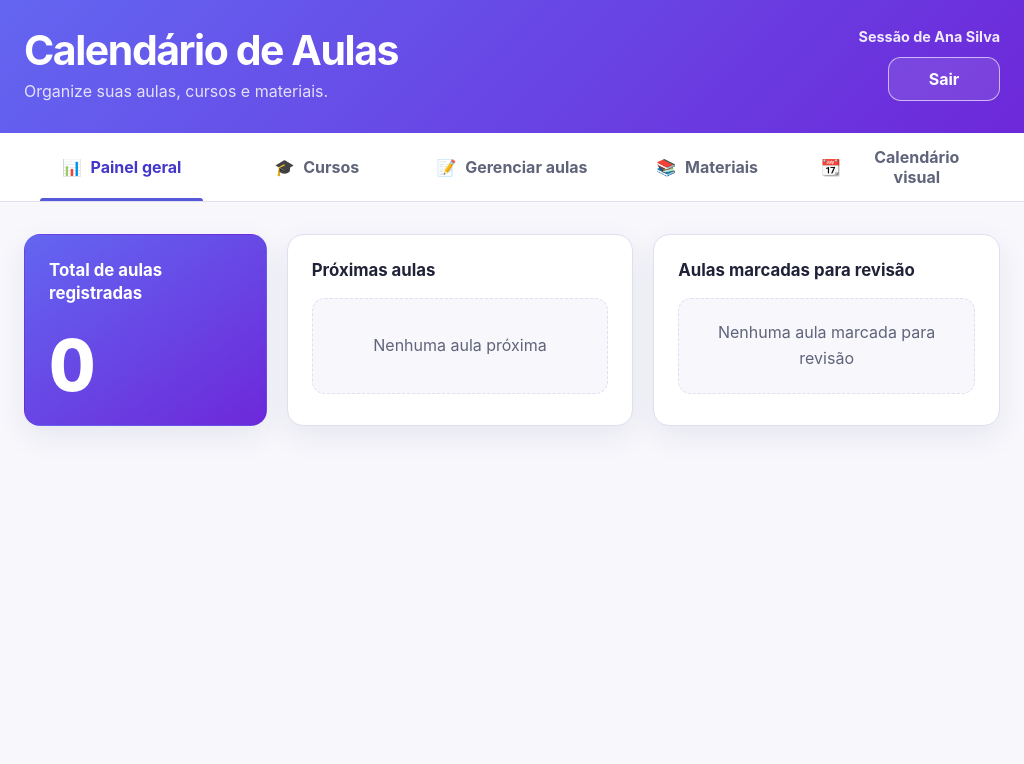
it: navegação da área autenticada › consulta novamente as aulas quando a seção é aberta
What coordinates should you click on to do the following:
click the button "📝 Gerenciar aulas"
I would click on:
 (512, 167)
Its box is left=414, top=133, right=610, bottom=201.
(page scrolled)
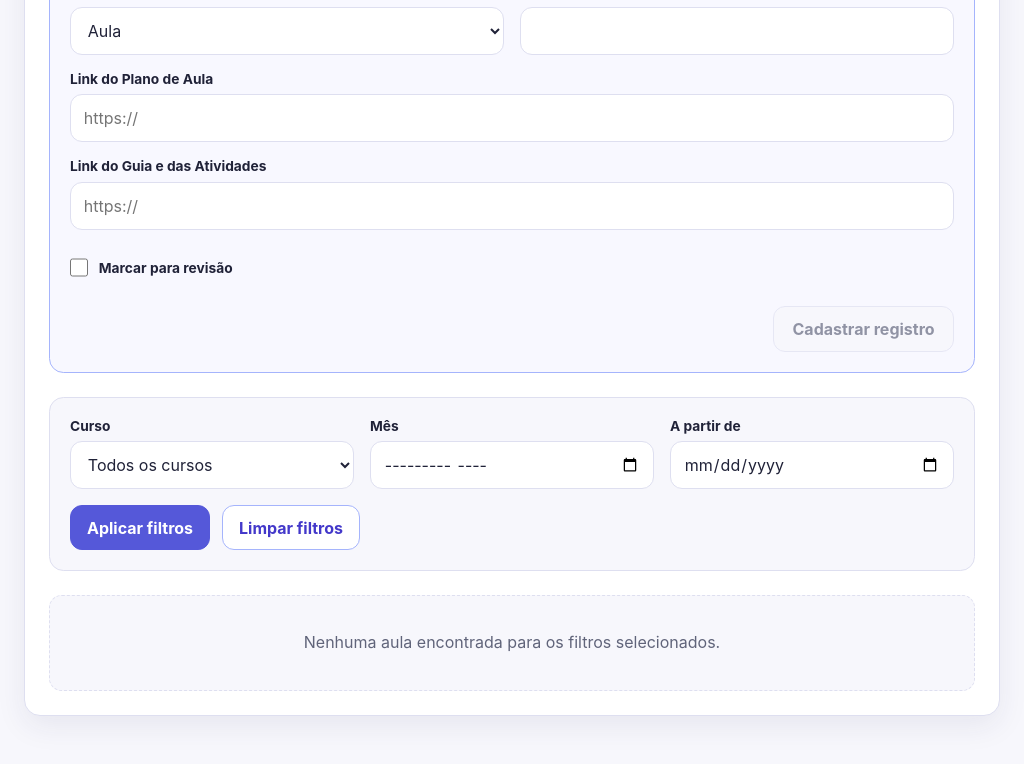
Check: the text "Nenhuma aula encontrada para os filtros selecionados." is shown, box left=49, top=595, right=975, bottom=691
